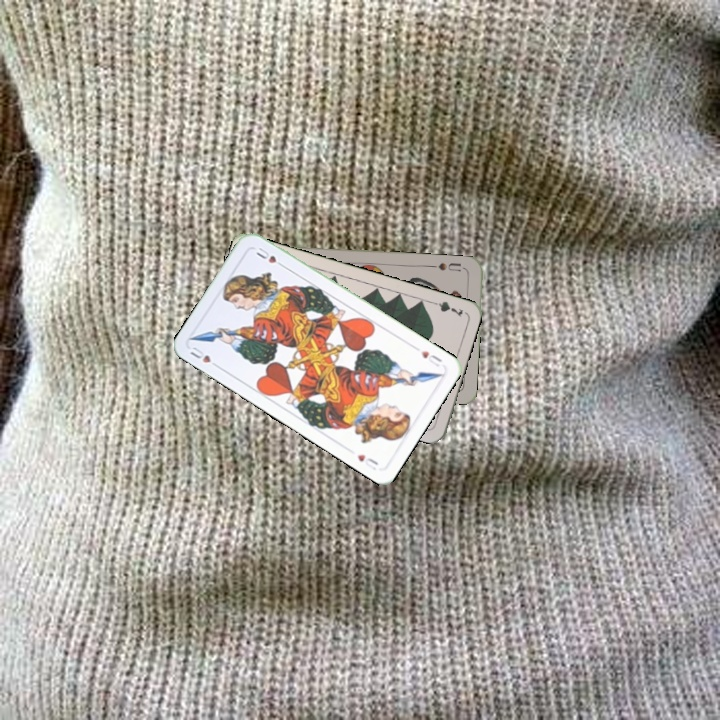G7: (426, 297, 466, 320)
HU: (186, 343, 223, 371), (417, 347, 445, 369)
SU: (434, 259, 463, 274)
